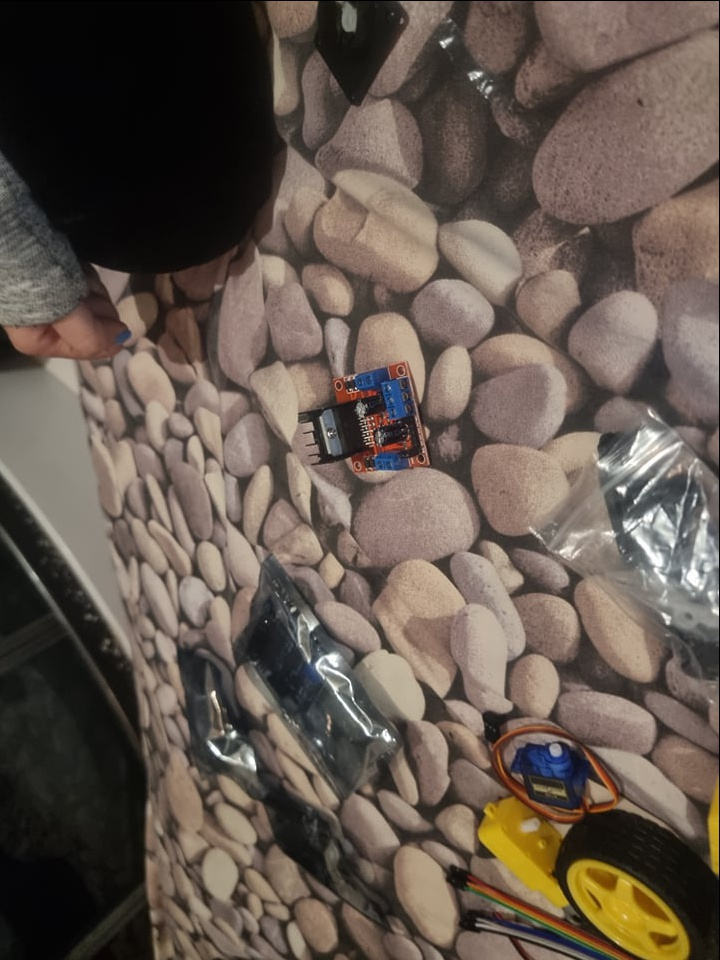MOTOR: (296, 357, 434, 473)
